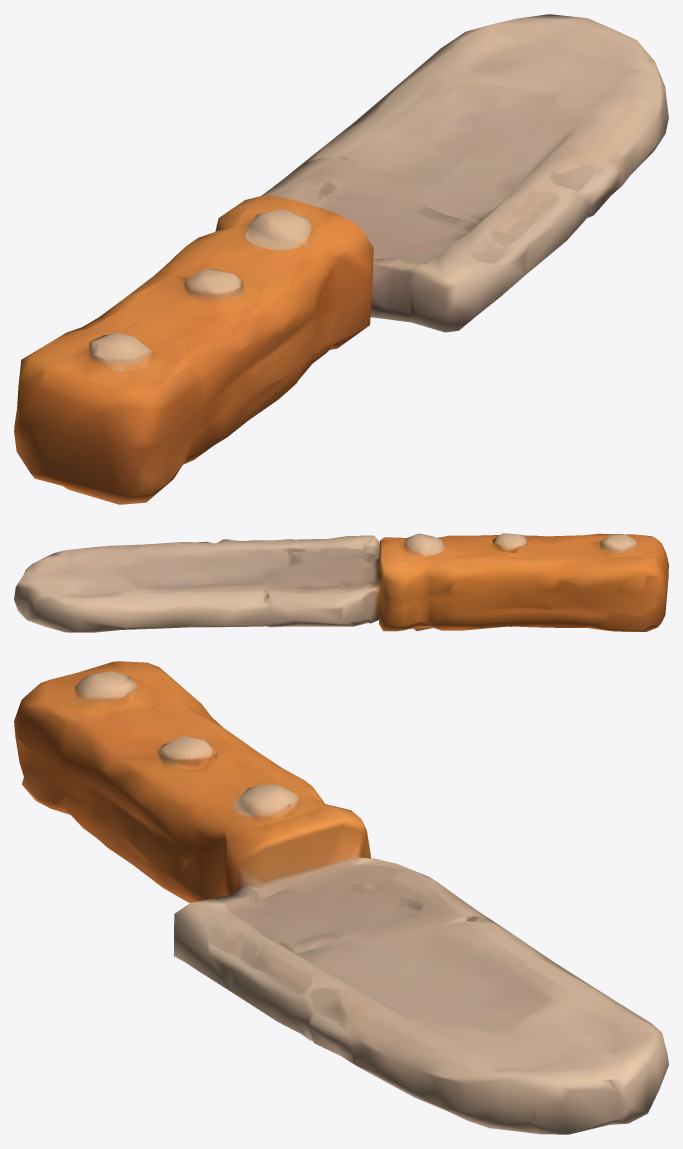
The model's file is knife.glb.
3 renders of one model, top to bottom at view 1: azimuth 30°, elevation 25°; view 2: azimuth 150°, elevation 25°; view 3: azimuth 270°, elevation 25°, orthographic. The views are drawn at different scales.
Parts seen in each view (by area): view 1: tripo_node_18f307be-6438-440d-9f9e-fd6f57cdf498; view 2: tripo_node_18f307be-6438-440d-9f9e-fd6f57cdf498; view 3: tripo_node_18f307be-6438-440d-9f9e-fd6f57cdf498.
Boxes of the visible parts, x1,y1,x2,y2 form: tripo_node_18f307be-6438-440d-9f9e-fd6f57cdf498: [14, 14, 668, 504]; tripo_node_18f307be-6438-440d-9f9e-fd6f57cdf498: [14, 533, 668, 632]; tripo_node_18f307be-6438-440d-9f9e-fd6f57cdf498: [14, 661, 668, 1134].
Bounding box in the file's own units: 1 × 0.1759 × 0.7003.
Materials: 1 (1 with a texture image).
